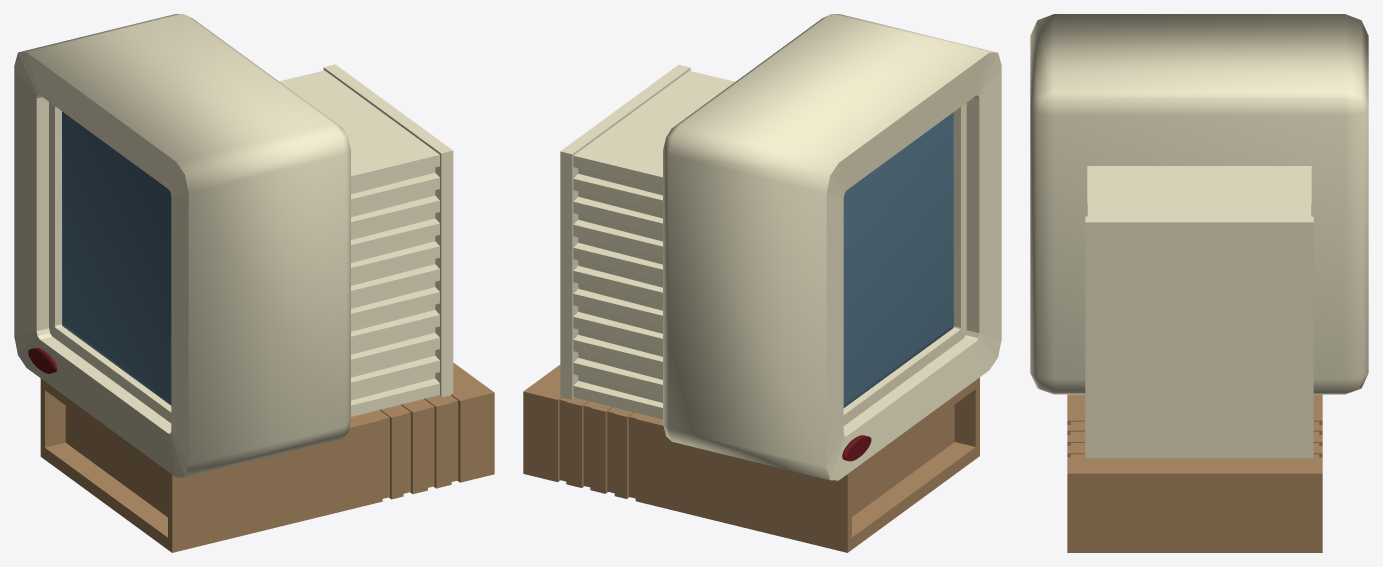
File: monitor_tier5.fbx
3 views of the same model, side by side, from view 1: azimuth 30°, elevation 25°; view 2: azimuth 150°, elevation 25°; view 3: azimuth 270°, elevation 25° (orthographic). The views are drawn at different scales.
Parts seen in each view (by area): view 1: Cube.003, Cube.001, Cube, Cube.002; view 2: Cube.003, Cube.001, Cube, Cube.002; view 3: Cube.003, Cube, Cube.001.
Boxes of the visible parts, x1=… form: Cube.003: x1=14, y1=14, x2=350, y2=477; Cube.001: x1=40, y1=362, x2=494, y2=552; Cube: x1=279, y1=64, x2=453, y2=416; Cube.002: x1=62, y1=111, x2=171, y2=405; Cube.003: x1=663, y1=14, x2=1001, y2=480; Cube.001: x1=523, y1=365, x2=979, y2=552; Cube: x1=560, y1=64, x2=735, y2=419; Cube.002: x1=843, y1=112, x2=953, y2=407; Cube.003: x1=1030, y1=14, x2=1368, y2=394; Cube: x1=1085, y1=166, x2=1313, y2=458; Cube.001: x1=1067, y1=394, x2=1322, y2=552.
Bounding box in the file's own units: 0.6262 × 0.723 × 0.5754.
